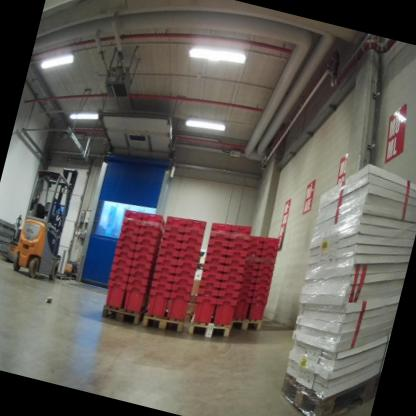forklift: (11, 157, 88, 279)
pallet: (275, 352, 381, 416), (93, 297, 146, 334), (138, 306, 186, 341), (184, 318, 232, 347), (229, 313, 266, 345)
pallet_truck: (0, 208, 31, 268)
small_load_carrier: (163, 288, 194, 325), (210, 293, 239, 332), (189, 291, 218, 327), (120, 281, 149, 317), (144, 286, 173, 320), (243, 295, 270, 329), (101, 279, 128, 312), (233, 294, 254, 322), (133, 232, 161, 250), (223, 245, 248, 265), (141, 209, 167, 228), (219, 262, 246, 280), (207, 218, 232, 237), (157, 238, 184, 255), (216, 278, 243, 295), (216, 286, 240, 305), (219, 269, 243, 288), (138, 218, 165, 234), (131, 243, 158, 259), (226, 238, 250, 256), (155, 251, 180, 268), (227, 232, 253, 248), (150, 269, 174, 286), (160, 229, 185, 245), (229, 222, 254, 238), (150, 277, 173, 294), (156, 245, 182, 260), (137, 225, 161, 241), (164, 214, 189, 229), (170, 283, 193, 299), (207, 226, 231, 241), (203, 252, 227, 267), (182, 233, 205, 248), (154, 262, 177, 277), (171, 274, 195, 288), (199, 269, 223, 283), (207, 234, 229, 249), (199, 277, 221, 292), (162, 223, 187, 236), (129, 266, 152, 280), (176, 258, 199, 272), (196, 286, 219, 300), (123, 204, 144, 219), (129, 258, 153, 271), (173, 266, 197, 279), (201, 261, 225, 274), (113, 247, 135, 261), (116, 231, 138, 245), (119, 222, 141, 236), (121, 214, 143, 228), (133, 251, 155, 265), (186, 217, 208, 231), (250, 288, 270, 303), (108, 264, 131, 277), (127, 275, 148, 289), (246, 233, 266, 247), (257, 257, 277, 271), (184, 226, 207, 238), (111, 256, 132, 269), (178, 250, 199, 263), (206, 245, 227, 258), (256, 267, 275, 281), (107, 272, 129, 284), (225, 256, 245, 269), (180, 243, 201, 255), (243, 247, 262, 260), (258, 263, 277, 276), (254, 281, 272, 294), (254, 275, 272, 288), (264, 240, 282, 253), (242, 255, 261, 267), (115, 240, 135, 251), (235, 288, 253, 300), (240, 262, 259, 273), (263, 234, 282, 245), (240, 274, 256, 287), (247, 239, 263, 251), (261, 251, 276, 262), (241, 268, 257, 277), (239, 282, 255, 291)
